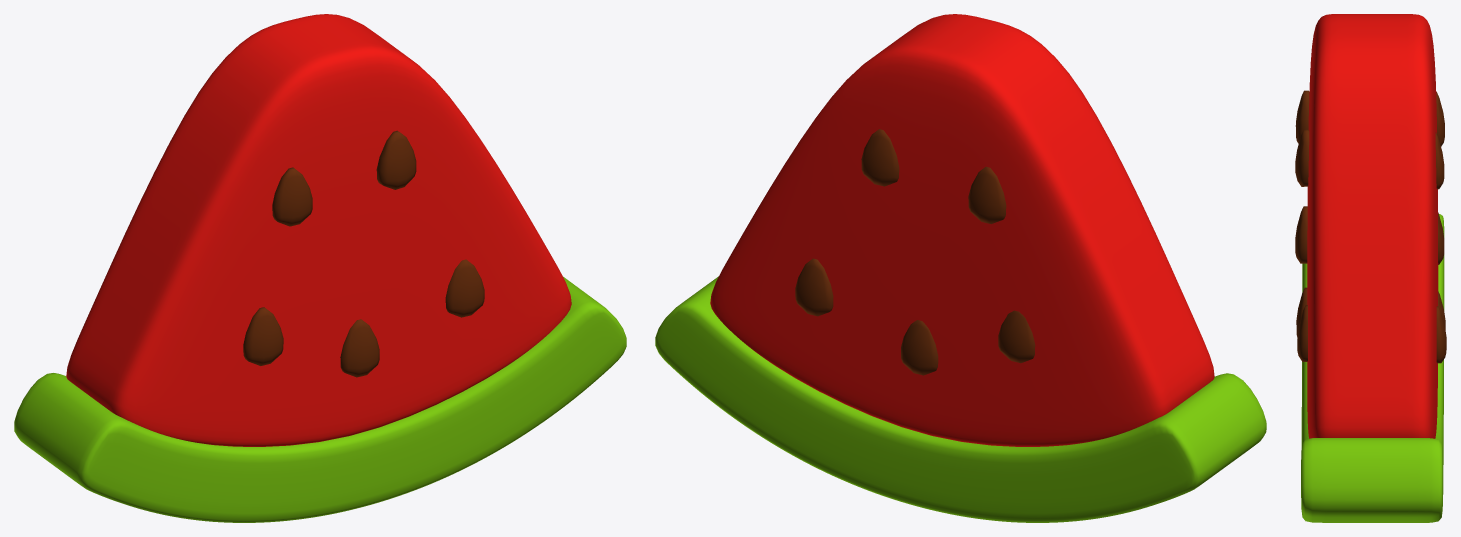
File: waterMelon.glb
3 views of the same model, side by side, from view 1: azimuth 30°, elevation 25°; view 2: azimuth 150°, elevation 25°; view 3: azimuth 270°, elevation 25° (orthographic).
Parts seen in each view (by area): view 1: Cube_006_Cube_019; view 2: Cube_006_Cube_019; view 3: Cube_006_Cube_019.
Part boxes in pixels (box(x1,y1,x2,y2)): Cube_006_Cube_019: box(14, 14, 626, 522); Cube_006_Cube_019: box(655, 14, 1266, 522); Cube_006_Cube_019: box(1295, 14, 1446, 522).
Bounding box in the file's own units: 2.16 × 1.7 × 0.527.
